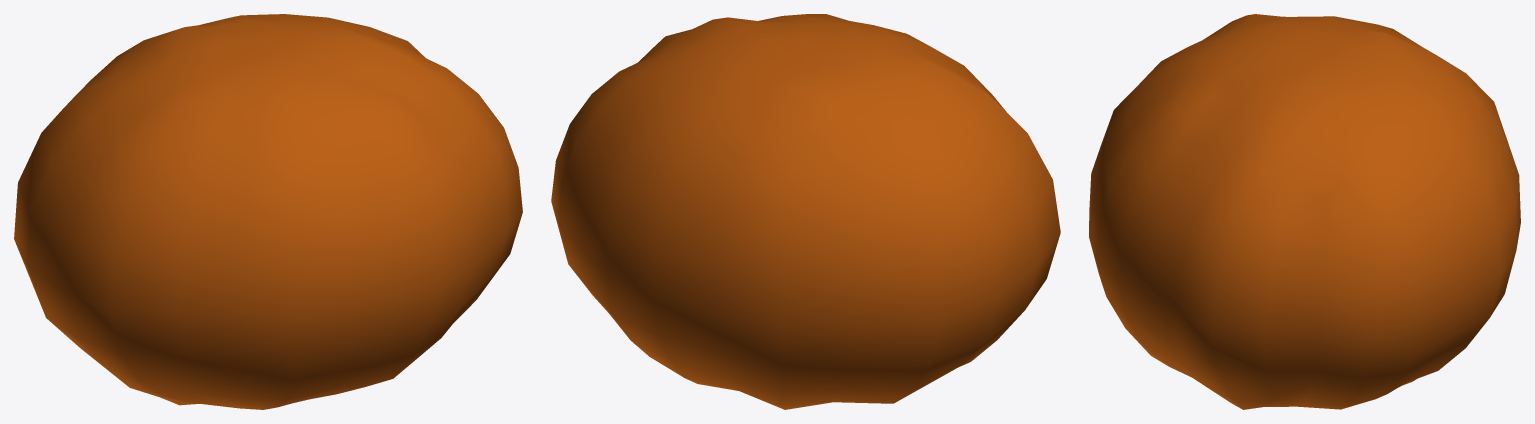
File: pumkin.fbx
The picture shows the model from 3 angles, left to right: view 1: azimuth 30°, elevation 25°; view 2: azimuth 150°, elevation 25°; view 3: azimuth 270°, elevation 25°; orthographic projection. The views are drawn at different scales.
Visible parts, largest first — view 1: Object004; view 2: Object004; view 3: Object004.
Part boxes in pixels (<box>): Object004: <box>14,14,522,409</box>; Object004: <box>551,14,1060,409</box>; Object004: <box>1089,14,1520,409</box>.
Bounding box in the file's own units: 7.82 × 5.65 × 6.87.
